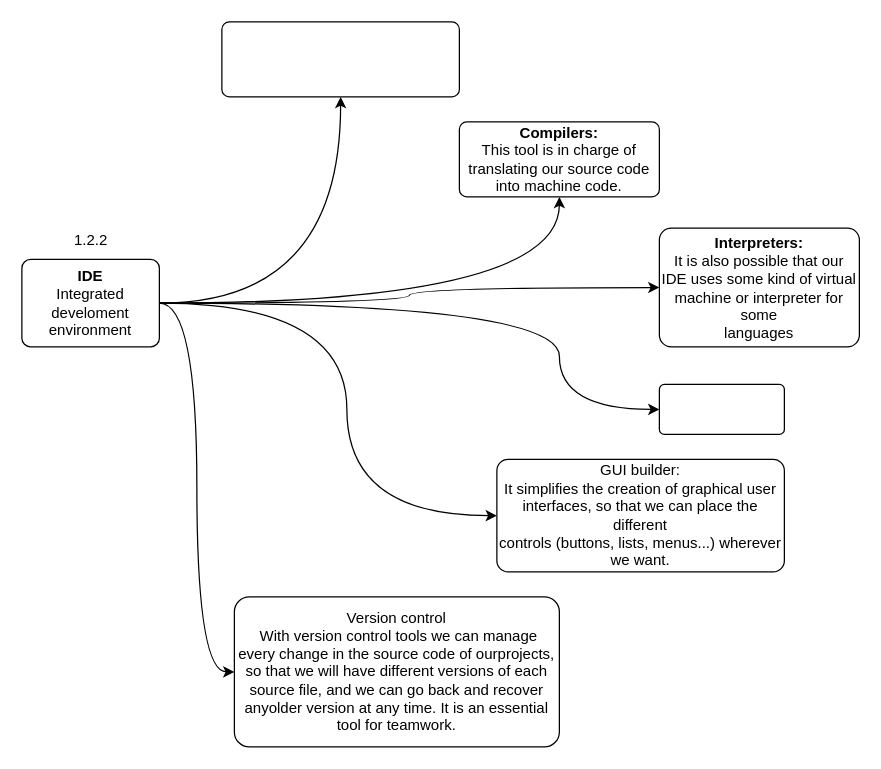
Some shapes in this 881 by 769 pixel diagram are drawn without their labels. The box of each missing label's shape, as (x1, y1, x2, y2) in pixels:
Debugger: Depurador: (658, 383, 784, 434)
Source code editor: it lets us write the source code of our program.: (221, 21, 459, 97)
